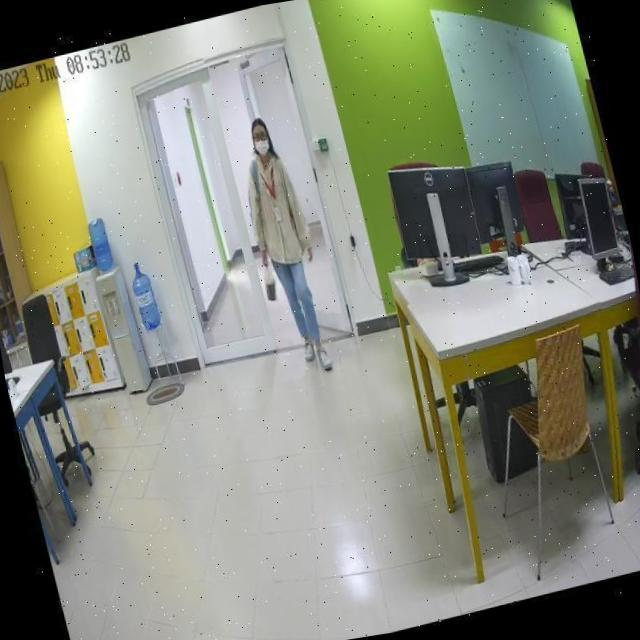person: (228, 112, 343, 386)
